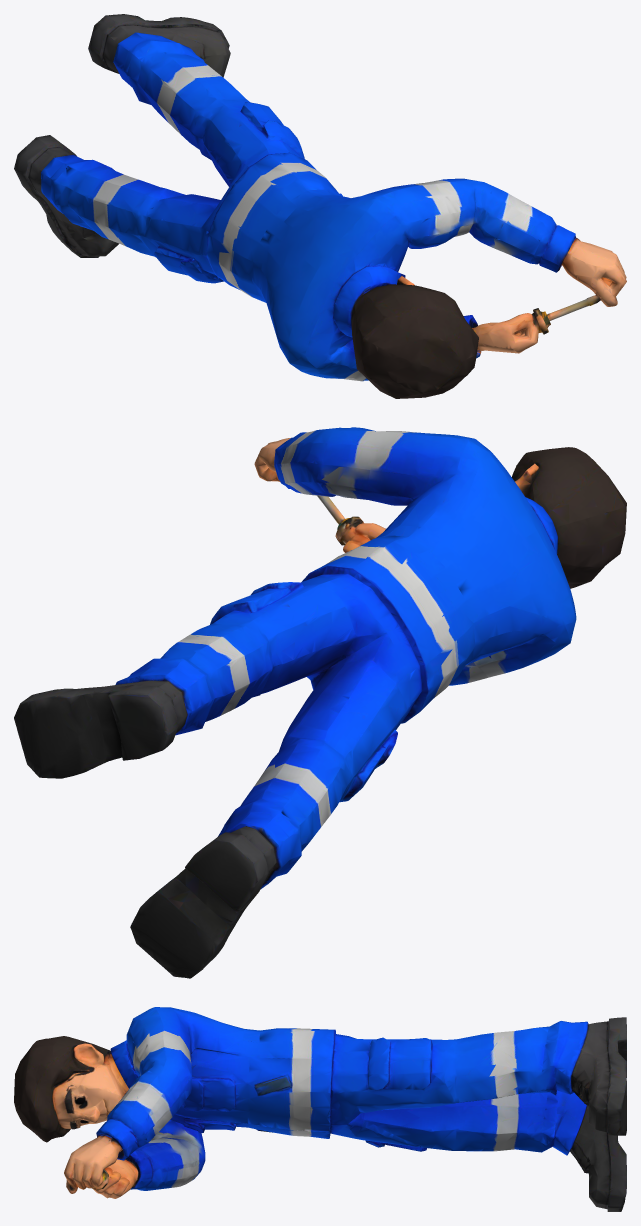
File: monter_otvertka.glb
3 views of the same model, one above another, from view 1: azimuth 30°, elevation 25°; view 2: azimuth 150°, elevation 25°; view 3: azimuth 270°, elevation 25° (orthographic). The views are drawn at different scales.
Parts seen in each view (by area): view 1: monter_otvertka; view 2: monter_otvertka; view 3: monter_otvertka.
Boxes of the visible parts, x1=… form: monter_otvertka: x1=14, y1=14, x2=626, y2=398; monter_otvertka: x1=14, y1=427, x2=626, y2=978; monter_otvertka: x1=14, y1=1007, x2=626, y2=1211.
Size of the model in its own units: 0.9045 by 0.6948 by 1.8.
1 material, 1 textured.
